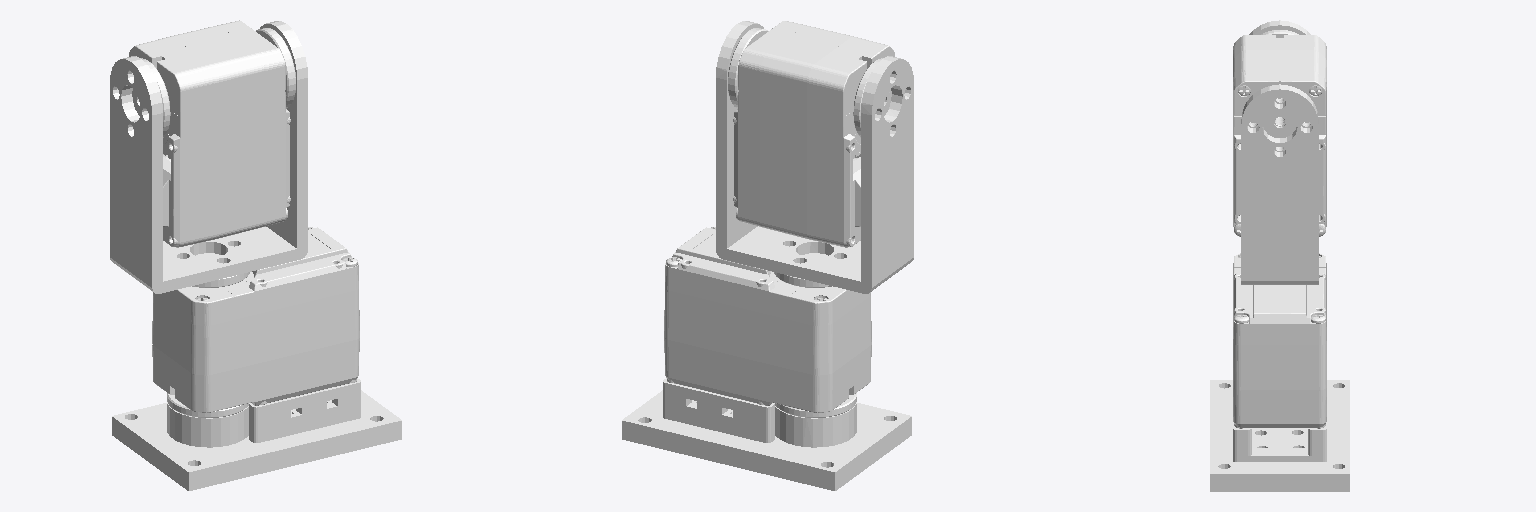
The robot description file, URDF, robot "my_robot":
<?xml version="1.0" encoding="utf-8"?>
<robot name="my_robot">

  <material name="white">
    <color rgba="1 1 1 1" />
  </material>

  <link name="base_footprint"/>

  <joint name="base_footprint_joint" type="fixed">
    <origin xyz="0 0 0" rpy="0 0 0" />
    <parent link="base_footprint" />
    <child link="base_link" />
  </joint>

  <link name="base_link">
    <inertial>
      <origin xyz="-0.00300451980276256 -0.0100336165918526 0.0181072277782003" rpy="0 0 0" />
      <mass value="0.0328981496900704" />
      <inertia ixx="2.84860896960679E-06" ixy="2.66287549879154E-08" ixz="-5.78756105139677E-09"
               iyy="8.24393549329368E-06" iyz="-1.99684915684532E-10" izz="6.45357713275226E-06" />
    </inertial>
    <visual>
      <origin xyz="0 0 0" rpy="0 0 0" />
      <geometry>
        <mesh filename="package://my_robot_description/meshes/base_link.STL" />
      </geometry>
      <material name="white" />
    </visual>
    <collision>
      <origin xyz="0 0 0" rpy="0 0 0" />
      <geometry>
        <mesh filename="package://my_robot_description/meshes/base_link.STL" />
      </geometry>
    </collision>
  </link>

  <link name="link1">
    <inertial>
      <origin xyz="1.73472347597681E-17 -3.46944695195361E-18 0.0200017378793156" rpy="0 0 0" />
      <mass value="0.00797150054395293" />
      <inertia ixx="2.6031213854509E-06" ixy="6.55928376360409E-22" ixz="-1.78064190672032E-21"
               iyy="4.96462690451124E-06" iyz="-3.95128921271933E-22" izz="2.92724332929689E-06" />
    </inertial>
    <visual>
      <origin xyz="0 0 0" rpy="0 0 0" />
      <geometry>
        <mesh filename="package://my_robot_description/meshes/link1.STL" />
      </geometry>
      <material name="white" />
    </visual>
    <collision>
      <origin xyz="0 0 0" rpy="0 0 0" />
      <geometry>
        <mesh filename="package://my_robot_description/meshes/link1.STL" />
      </geometry>
    </collision>
  </link>

  <joint name="yuntai_joint1" type="revolute">
    <origin xyz="-0.017135 -0.018308 0.018921" rpy="0 0 0" />
    <parent link="base_link" />
    <child link="link1" />
    <axis xyz="0 0 1" />
    <limit lower="-3.14" upper="3.14" effort="2.94" velocity="4.7" />
  </joint>

  <link name="link2">
    <inertial>
      <origin xyz="0.0147933766283957 0.000359851819586466 -0.000341765102755642" rpy="0 0 0" />
      <mass value="0.019578307488806" />
      <inertia ixx="1.31233972746423E-06" ixy="-5.21115848269479E-09" ixz="-5.81597879547027E-09"
               iyy="3.36934206100943E-06" iyz="-3.4473296802718E-10" izz="2.80834051774756E-06" />
    </inertial>
    <visual>
      <origin xyz="0 0 0" rpy="0 0 0" />
      <geometry>
        <mesh filename="package://my_robot_description/meshes/link2.STL" />
      </geometry>
      <material name="white" />
    </visual>
    <collision>
      <origin xyz="0 0 0" rpy="0 0 0" />
      <geometry>
        <mesh filename="package://my_robot_description/meshes/link2.STL" />
      </geometry>
    </collision>
  </link>

  <joint name="yuntai_joint2" type="revolute">
    <origin xyz="0 0 0.046259" rpy="1.5708 1.5708 0" />
    <parent link="link1" />
    <child link="link2" />
    <axis xyz="0 1 0" />
    <limit lower="0" upper="3.14" effort="2.94" velocity="4.7" />
  </joint>



</robot>

--- What the picture shows (computed from the rendered views, not written in the file) ---
The picture shows the robot from 3 angles, left to right: view 1: azimuth 30°, elevation 25°; view 2: azimuth 150°, elevation 25°; view 3: azimuth 270°, elevation 25°; orthographic projection.
Robot: my_robot — 4 links, 3 joints (2 revolute, 1 fixed); root link base_footprint; default pose: every joint at zero.
Links seen in each view (by area): view 1: base_link, link2, link1; view 2: base_link, link2, link1; view 3: base_link, link1, link2.
Link boxes in pixels (x1=…): base_link: x1=112, y1=227, x2=401, y2=490; link2: x1=129, y1=20, x2=295, y2=247; link1: x1=110, y1=21, x2=307, y2=293; base_link: x1=622, y1=227, x2=911, y2=490; link2: x1=728, y1=21, x2=894, y2=247; link1: x1=716, y1=21, x2=913, y2=293; base_link: x1=1210, y1=253, x2=1349, y2=491; link1: x1=1241, y1=20, x2=1318, y2=284; link2: x1=1233, y1=30, x2=1326, y2=236.
Size in the robot's own frame: 0.0639 by 0.0366 by 0.1065 metres.
Meshes: 3 distinct files referenced, 3 mesh visuals loaded (3 binary STL).
